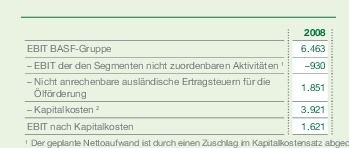table: (0, 0, 349, 148)
